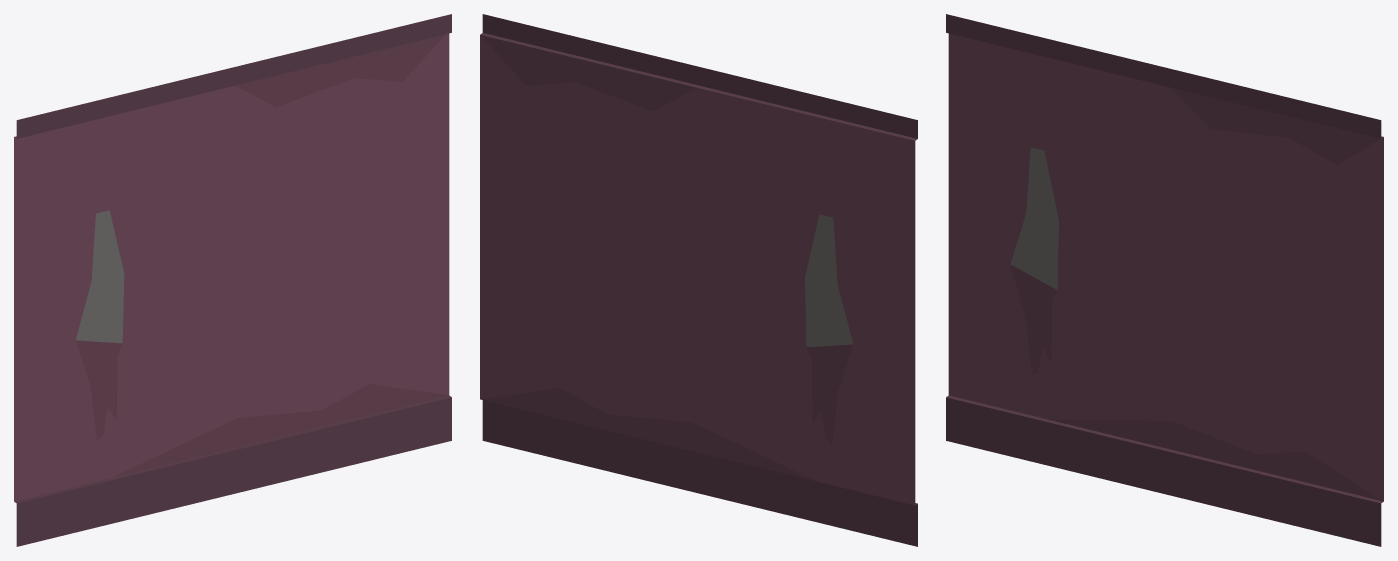
The model's file is AI_Env_Wall_Pink_TornWallpaper_01.fbx.
The picture shows the model from 3 angles, left to right: view 1: azimuth 30°, elevation 25°; view 2: azimuth 150°, elevation 25°; view 3: azimuth 330°, elevation 25°; orthographic projection.
Visible parts, largest first — view 1: AI_Env_Wall_Pink_TornWallpaper_01; view 2: AI_Env_Wall_Pink_TornWallpaper_01; view 3: AI_Env_Wall_Pink_TornWallpaper_01.
Part boxes in pixels (<box>): AI_Env_Wall_Pink_TornWallpaper_01: <box>14,14,451,546</box>; AI_Env_Wall_Pink_TornWallpaper_01: <box>480,14,917,546</box>; AI_Env_Wall_Pink_TornWallpaper_01: <box>946,14,1383,546</box>.
Bounding box in the file's own units: 5 × 4.69 × 0.0549.
